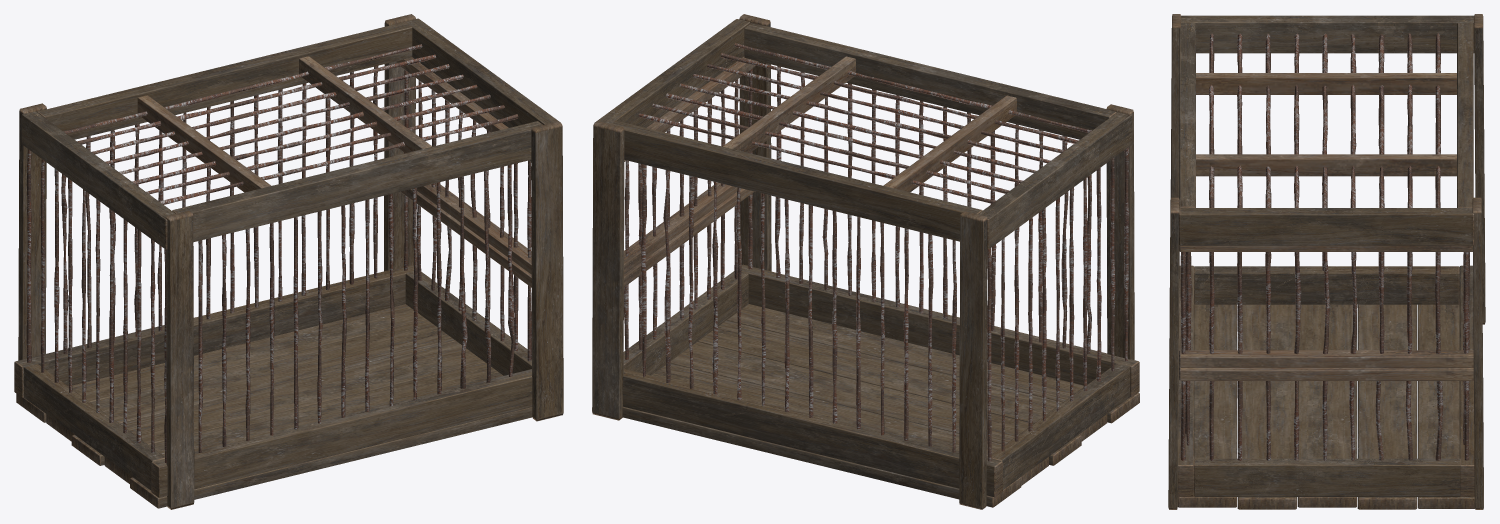
File: SM_SmallAnimalCage_A.fbx
3 renders of one model, left to right at view 1: azimuth 30°, elevation 25°; view 2: azimuth 150°, elevation 25°; view 3: azimuth 270°, elevation 25°, orthographic. The views are drawn at different scales.
Visible parts, largest first — view 1: SM_SmallAnimalCage_A_LOD0; view 2: SM_SmallAnimalCage_A_LOD0; view 3: SM_SmallAnimalCage_A_LOD0.
Boxes of the visible parts, left/top/right/bottom form: SM_SmallAnimalCage_A_LOD0: left=14, top=14, right=563, bottom=509; SM_SmallAnimalCage_A_LOD0: left=592, top=14, right=1139, bottom=509; SM_SmallAnimalCage_A_LOD0: left=1168, top=14, right=1485, bottom=509.
Size of the model in its own units: 52.68 by 34.7 by 36.14.
Materials: 1 (1 with a texture image).
